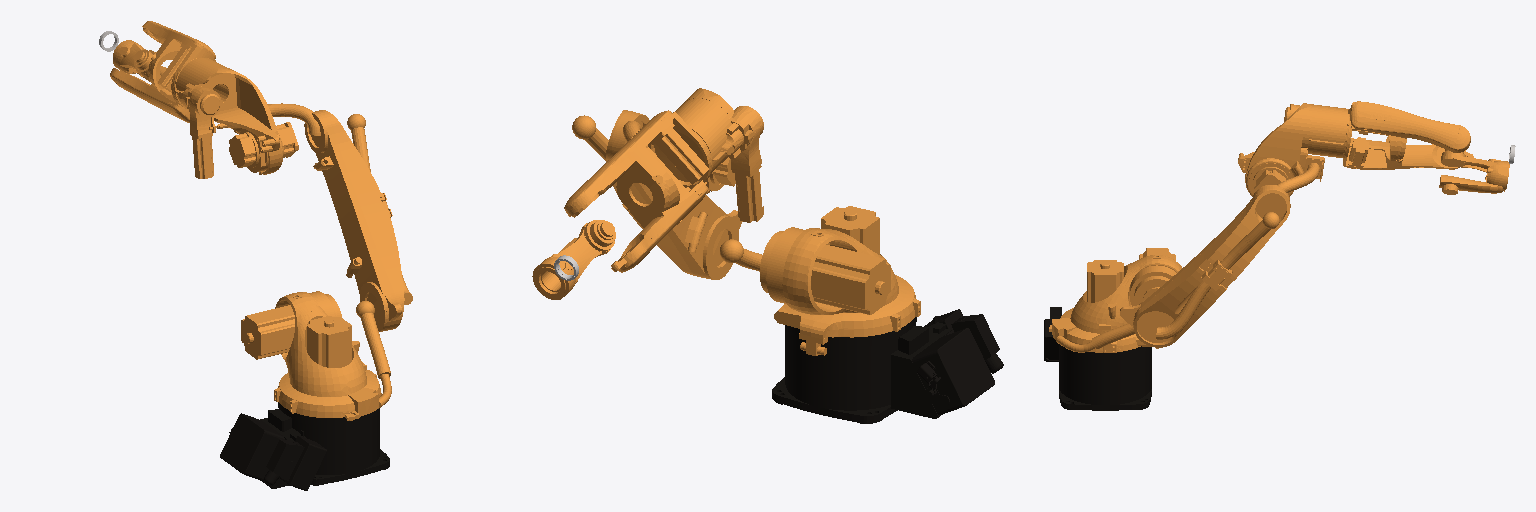
URDF robot description (assembly_kuka_simp):
<?xml version="1.0" encoding="utf-8" ?>
<robot name="assembly_kuka_simp">
    <material name="orange">
        <color rgba="0.933 0.635 0.309 1" />
    </material>
    <material name="black">
        <color rgba="0.121 0.109 0.098 1" />
    </material>
    <material name="platinum">
        <color rgba="0.835 0.815 0.803 1" />
    </material>
    <link name="base_link">
        
<inertial>
            <origin xyz="-0.001558 2.0188E-06 0.11237" rpy="0 0 0" />
            <mass value="149.06" />
            <inertia ixx="1.6321" ixy="-1.1451E-05" ixz="0.012034" iyy="1.6721" iyz="3.1139E-05" izz="2.0397" />
        </inertial>

        <visual>
            <origin xyz="0 0 0" rpy="0 0 0" />
            <geometry>
                <mesh filename="package://assembly_kuka_simp/meshes/base_link.dae" />
            </geometry>
            <material name="black" />
        </visual>
        <collision>
            <origin xyz="0 0 0" rpy="0 0 0" />
            <geometry>
                <mesh filename="package://assembly_kuka_simp/meshes/base_link.dae" />
            </geometry>
        </collision>
    </link>
    <link name="link_1">
        
<inertial>
            <origin xyz="0 0 0" rpy="0 0 0" />
            <mass value="85.97" />
            <inertia ixx="1.62" ixy="-0.21" ixz="0.94" iyy="2.57" iyz="-0.21" izz="1.81" />
        </inertial>

        <visual>
            <origin xyz="0 0 0" rpy="0 0 0" />
            <geometry>
                <mesh filename="package://assembly_kuka_simp/meshes/link_1.dae" />
            </geometry>
            <material name="orange" />
        </visual>
        <collision>
            <origin xyz="0 0 0" rpy="0 0 0" />
            <geometry>
                <mesh filename="package://assembly_kuka_simp/meshes/link_1.dae" />
            </geometry>
        </collision>
    </link>
    <joint name="base_to_link1" type="continuous">
        <origin xyz="0 0 0.2255" rpy="0 0 1.5686" />
        <parent link="base_link" />
        <child link="link_1" />
        <axis xyz="0 0 1" />
        <limit lower="-2.7053" upper="2.7053" effort="0" velocity="2.6878" />
    </joint>
    <link name="link_2">
        
<inertial>
            <origin xyz="0.0031161 -0.17175 0.26406" rpy="0 0 0" />
            <mass value="63.108" />
            <inertia ixx="2.146" ixy="0.0017265" ixz="-0.018041" iyy="2.1873" iyz="0.069311" izz="0.17296" />
        </inertial>

        <visual>
            <origin xyz="0 -0.27055 0" rpy="0 0 0" />
            <geometry>
                <mesh filename="package://assembly_kuka_simp/meshes/link_2.dae" />
            </geometry>
            <material name="orange" />
        </visual>
        <collision>
            <origin xyz="0 -0.27055 0" rpy="0 0 0" />
            <geometry>
                <mesh filename="package://assembly_kuka_simp/meshes/link_2.dae" />
            </geometry>
        </collision>
    </link>
    <joint name="link1_to_link2" type="continuous">
        <origin xyz="0.18106 -0.002 0.178" rpy="0 0.71824 0" />
        <parent link="link_1" />
        <child link="link_2" />
        <axis xyz="0 1 0" />
        <limit lower="-3.1416" upper="1.1345" effort="0" velocity="2.6878" />
    </joint>
    <link name="link_3">
        
<inertial>
            <origin xyz="0.086086 -0.024557 0.10627" rpy="0 0 0" />
            <mass value="50.39" />
            <inertia ixx="0.56851" ixy="-0.12841" ixz="-0.24829" iyy="0.72042" iyz="-0.15113" izz="0.56576" />
        </inertial>

        <visual>
            <origin xyz="0 -0.13635 0" rpy="0 0 0" />
            <geometry>
                <mesh filename="package://assembly_kuka_simp/meshes/link_3.dae" />
            </geometry>
            <material name="orange" />
        </visual>
        <collision>
            <origin xyz="0 -0.13635 0" rpy="0 0 0" />
            <geometry>
                <mesh filename="package://assembly_kuka_simp/meshes/link_3.dae" />
            </geometry>
        </collision>
    </link>
    <joint name="link2_to_link3" type="continuous">
        <origin xyz="0.0011745 0.002 0.59705" rpy="0 -0.58172 0" />
        <parent link="link_2" />
        <child link="link_3" />
        <axis xyz="0 1 0" />
        <limit lower="-0.2618" upper="2.7576" effort="0" velocity="3.9794" />
    </joint>
    <link name="link_4">
        
<inertial>
            <origin xyz="0.19879 -0.00067831 0.0004912" rpy="0 0 0" />
            <mass value="26.395" />
            <inertia ixx="0.25277" ixy="0.0012247" ixz="0.0022768" iyy="0.40301" iyz="0.052083" izz="0.5751" />
        </inertial>

        <visual>
            <origin xyz="0 0 0" rpy="0 0 0" />
            <geometry>
                <mesh filename="package://assembly_kuka_simp/meshes/link_4.dae" />
            </geometry>
            <material name="orange" />
        </visual>
        <collision>
            <origin xyz="0 0 0" rpy="0 0 0" />
            <geometry>
                <mesh filename="package://assembly_kuka_simp/meshes/link_4.dae" />
            </geometry>
        </collision>
    </link>
    <joint name="link3_to_link4" type="continuous">
        <origin xyz="0.237 0 0.17" rpy="-0.77711 0 0" />
        <parent link="link_3" />
        <child link="link_4" />
        <axis xyz="1 0 0" />
        <limit lower="-6.1087" upper="-6.1087" effort="0" velocity="5.969" />
    </joint>
    <link name="link_5">
        
<inertial>
            <origin xyz="0.075375 -0.0070921 0" rpy="0 0 0" />
            <mass value="8.3316" />
            <inertia ixx="0.021249" ixy="0.0024931" ixz="-1.4695E-07" iyy="0.049743" iyz="-1.0627E-07" izz="0.063119" />
        </inertial>

        <visual>
            <origin xyz="0 0 -0.082318" rpy="1.5708 0 0" />
            <geometry>
                <mesh filename="package://assembly_kuka_simp/meshes/link_5.dae" />
            </geometry>
            <material name="orange" />
        </visual>
        <collision>
            <origin xyz="0 0 -0.082318" rpy="1.5708 0 0" />
            <geometry>
                <mesh filename="package://assembly_kuka_simp/meshes/link_5.dae" />
            </geometry>
        </collision>
    </link>
    <joint name="link4_to_link5" type="continuous">
        <origin xyz="0.383 0.005 0" rpy="0 0 0" />
        <parent link="link_4" />
        <child link="link_5" />
        <axis xyz="0 0 1" />
        <limit lower="-2.2689" upper="2.2689" effort="0" velocity="6.7021" />
    </joint>
    <link name="link_6">
        
<inertial>
            <origin xyz="0 0 0" rpy="0 0 0" />
            <mass value="0.15535" />
            <inertia ixx="0.0001313" ixy="1.5196E-18" ixz="9.2632E-08" iyy="6.8352E-05" iyz="9.6562E-20" izz="6.9057E-05" />
        </inertial>

        <visual>
            <origin xyz="0 0 0" rpy="0 0 0" />
            <geometry>
                <mesh filename="package://assembly_kuka_simp/meshes/link_6.dae" />
            </geometry>
            <material name="platinum" />
        </visual>
        <collision>
            <origin xyz="0 0 0" rpy="0 0 0" />
            <geometry>
                <mesh filename="package://assembly_kuka_simp/meshes/link_6.dae" />
            </geometry>
        </collision>
    </link>
    <joint name="link5_to_link6" type="continuous">
        <origin xyz="0.193 -0.003 0" rpy="1.3396 0 0" />
        <parent link="link_5" />
        <child link="link_6" />
        <axis xyz="1 0 0" />
        <limit lower="-6.1087" upper="6.1087" effort="0" velocity="12.584" />
    </joint>
    <!-- This block connects the head_swivel joint to an actuator (motor), which informs both
  simulation and visualization of the robot -->
    
<transmission name="trans_b_1">
        <type>transmission_interface/SimpleTransmission</type>
        <actuator name="$motor_b_1">
            <mechanicalReduction>1</mechanicalReduction>
        </actuator>
        <joint name="base_to_link1">
            <hardwareInterface>PositionJointInterface</hardwareInterface>
        </joint>
    </transmission>
    <transmission name="trans_1_2">
        <type>transmission_interface/SimpleTransmission</type>
        <actuator name="$motor_1_2">
            <mechanicalReduction>1</mechanicalReduction>
        </actuator>
        <joint name="link1_to_link2">
            <hardwareInterface>PositionJointInterface</hardwareInterface>
        </joint>
    </transmission>
    <transmission name="trans_2_3">
        <type>transmission_interface/SimpleTransmission</type>
        <actuator name="$motor_2_3">
            <mechanicalReduction>1</mechanicalReduction>
        </actuator>
        <joint name="link2_to_link3">
            <hardwareInterface>PositionJointInterface</hardwareInterface>
        </joint>
    </transmission>
    <transmission name="trans_3_4">
        <type>transmission_interface/SimpleTransmission</type>
        <actuator name="$motor_3_4">
            <mechanicalReduction>1</mechanicalReduction>
        </actuator>
        <joint name="link3_to_link4">
            <hardwareInterface>PositionJointInterface</hardwareInterface>
        </joint>
    </transmission>
    <transmission name="trans_4_5">
        <type>transmission_interface/SimpleTransmission</type>
        <actuator name="$motor_4_5">
            <mechanicalReduction>1</mechanicalReduction>
        </actuator>
        <joint name="link4_to_link5">
            <hardwareInterface>PositionJointInterface</hardwareInterface>
        </joint>
    </transmission>
    <transmission name="trans_5_6">
        <type>transmission_interface/SimpleTransmission</type>
        <actuator name="$motor_5_6">
            <mechanicalReduction>1</mechanicalReduction>
        </actuator>
        <joint name="link5_to_link6">
            <hardwareInterface>PositionJointInterface</hardwareInterface>
        </joint>
    </transmission>
    <link name="world" />
    <joint name="world_base" type="fixed">
        <parent link="world" />
        <child link="base_link" />
        <origin rpy="0 0 0" xyz="0 0 0" />
    </joint>
    <!-- Gazebo plugin for ROS Control -->
    <gazebo>
        <plugin name="gazebo_ros_control" filename="libgazebo_ros_control.so">
            <robotNamespace>/</robotNamespace>
        </plugin>
    </gazebo>
    <transmission name="trans_base_to_link1">
        <type>transmission_interface/SimpleTransmission</type>
        <joint name="base_to_link1">
            <hardwareInterface>hardware_interface/EffortJointInterface</hardwareInterface>
        </joint>
        <actuator name="base_to_link1_motor">
            <hardwareInterface>hardware_interface/EffortJointInterface</hardwareInterface>
            <mechanicalReduction>1</mechanicalReduction>
        </actuator>
    </transmission>
    <transmission name="trans_link1_to_link2">
        <type>transmission_interface/SimpleTransmission</type>
        <joint name="link1_to_link2">
            <hardwareInterface>hardware_interface/EffortJointInterface</hardwareInterface>
        </joint>
        <actuator name="link1_to_link2_motor">
            <hardwareInterface>hardware_interface/EffortJointInterface</hardwareInterface>
            <mechanicalReduction>1</mechanicalReduction>
        </actuator>
    </transmission>
    <transmission name="trans_link2_to_link3">
        <type>transmission_interface/SimpleTransmission</type>
        <joint name="link2_to_link3">
            <hardwareInterface>hardware_interface/EffortJointInterface</hardwareInterface>
        </joint>
        <actuator name="link2_to_link3_motor">
            <hardwareInterface>hardware_interface/EffortJointInterface</hardwareInterface>
            <mechanicalReduction>1</mechanicalReduction>
        </actuator>
    </transmission>
    <transmission name="trans_link3_to_link4">
        <type>transmission_interface/SimpleTransmission</type>
        <joint name="link3_to_link4">
            <hardwareInterface>hardware_interface/EffortJointInterface</hardwareInterface>
        </joint>
        <actuator name="link3_to_link4_motor">
            <hardwareInterface>hardware_interface/EffortJointInterface</hardwareInterface>
            <mechanicalReduction>1</mechanicalReduction>
        </actuator>
    </transmission>
    <transmission name="trans_link4_to_link5">
        <type>transmission_interface/SimpleTransmission</type>
        <joint name="link4_to_link5">
            <hardwareInterface>hardware_interface/EffortJointInterface</hardwareInterface>
        </joint>
        <actuator name="link4_to_link5_motor">
            <hardwareInterface>hardware_interface/EffortJointInterface</hardwareInterface>
            <mechanicalReduction>1</mechanicalReduction>
        </actuator>
    </transmission>
    <transmission name="trans_link5_to_link6">
        <type>transmission_interface/SimpleTransmission</type>
        <joint name="link5_to_link6">
            <hardwareInterface>hardware_interface/EffortJointInterface</hardwareInterface>
        </joint>
        <actuator name="link5_to_link6_motor">
            <hardwareInterface>hardware_interface/EffortJointInterface</hardwareInterface>
            <mechanicalReduction>1</mechanicalReduction>
        </actuator>
    </transmission>
    <gazebo>
        <plugin name="gazebo_ros_control" filename="libgazebo_ros_control.so">
            <robotNamespace>/</robotNamespace>
        </plugin>
    </gazebo>
</robot>

--- Facts derived from the render (not from the file) ---
Views: 3 orthographic renders of the robot side by side, from view 1: azimuth 30°, elevation 25°; view 2: azimuth 150°, elevation 25°; view 3: azimuth 270°, elevation 25°.
Model assembly_kuka_simp with 8 links and 7 joints (6 continuous, 1 fixed), rooted at world, posed all joints at 0.
Links seen in each view (by area): view 1: link_1, link_2, base_link, link_3, link_4, link_5; view 2: base_link, link_1, link_4, link_2, link_3, link_5; view 3: link_2, link_1, link_4, base_link, link_3, link_5.
Boxes of the visible links, box(x1,y1,x2,y2) form: link_1: box(241, 291, 391, 420); link_2: box(229, 110, 412, 331); base_link: box(220, 402, 389, 490); link_3: box(175, 58, 320, 178); link_4: box(110, 21, 215, 122); link_5: box(113, 40, 166, 81); base_link: box(772, 309, 1003, 423); link_1: box(720, 206, 920, 355); link_4: box(564, 110, 712, 272); link_2: box(572, 110, 742, 279); link_3: box(623, 88, 763, 222); link_5: box(532, 220, 615, 299); link_2: box(1120, 170, 1290, 347); link_1: box(1049, 248, 1181, 352); link_4: box(1342, 101, 1473, 169); base_link: box(1044, 307, 1151, 410); link_3: box(1238, 103, 1347, 196); link_5: box(1439, 149, 1509, 194).
Bounding box of the posed robot: 0.8298 × 1.63 × 1.12 m (x, y, z).
Meshes: 7 distinct files referenced, 7 mesh visuals loaded (7 Collada DAE).